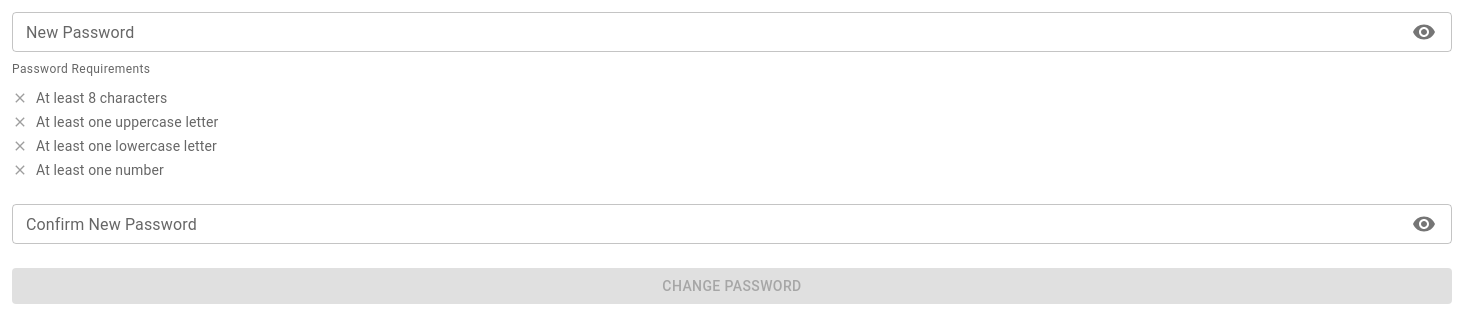
Scenario: ChangePasswordForm › should enable submit button when password meets all requirements and matches confirmation
Note: Enter valid password
Step 1. Type "Password123" into the password field labelled "New Password" → (706, 32), box [12,12,1399,52]
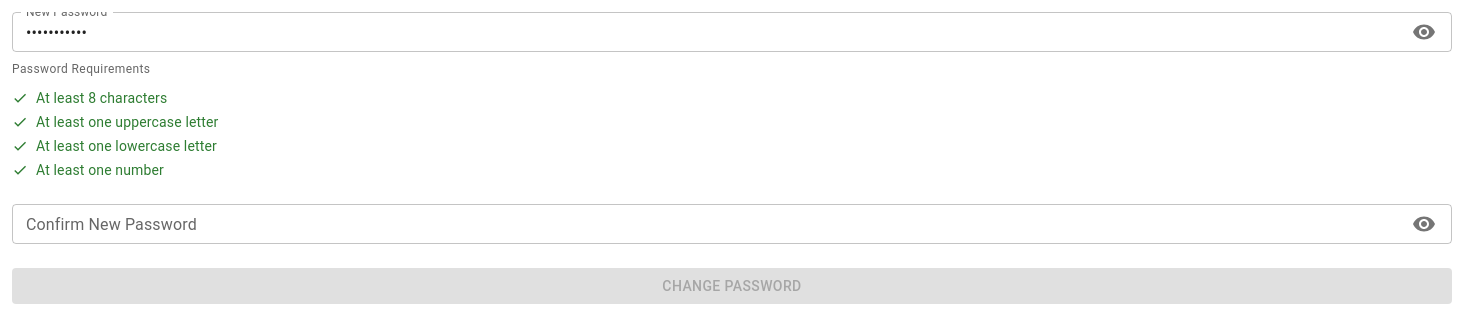
Step 2. Type "Password123" into the password field labelled "Confirm New Password" → (706, 224), box [12,204,1399,244]
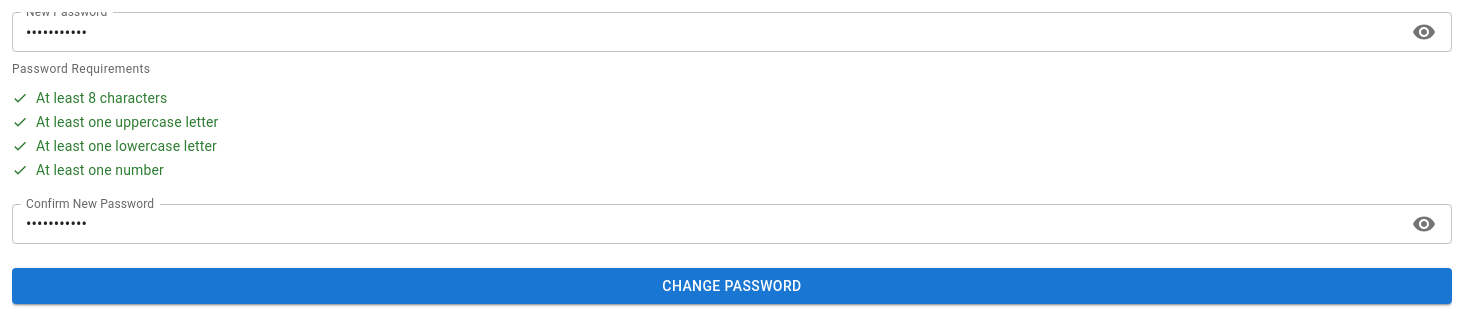
Now the button "Change Password" is enabled, box [12,268,1452,304]
